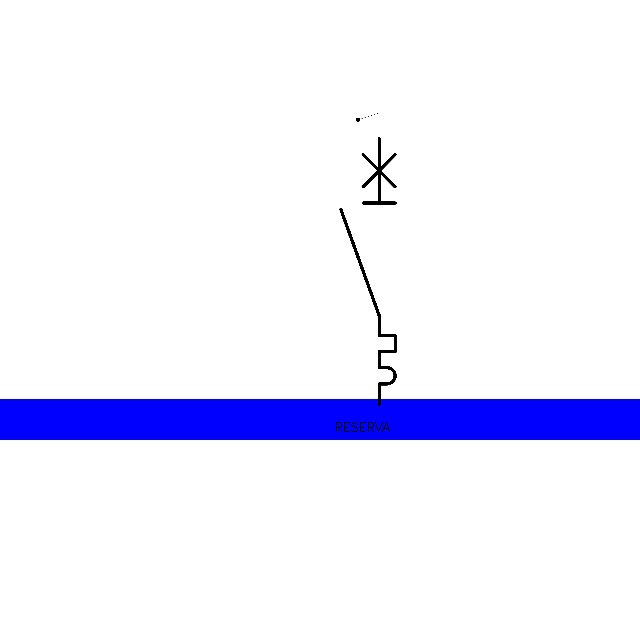interruptor_termomagnetico: (334, 131, 402, 410)
